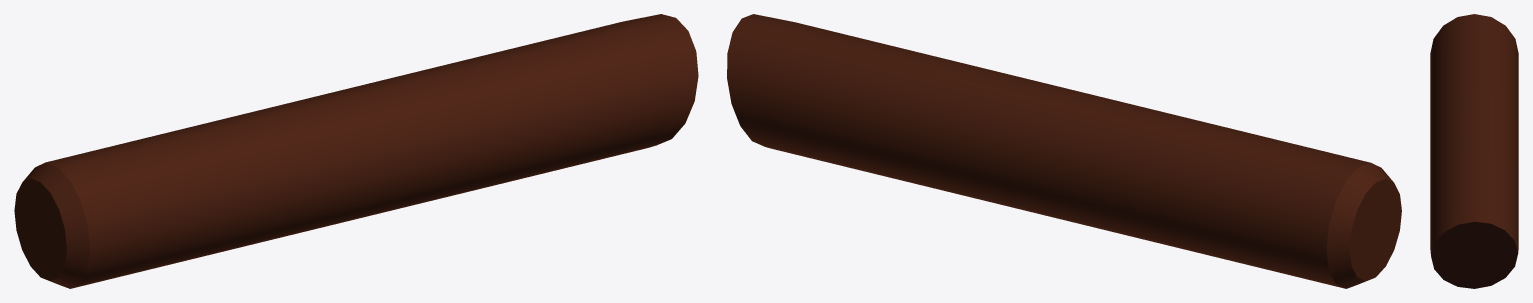
File: BatteBaseBall_Part_2.fbx
3 views of the same model, side by side, from view 1: azimuth 30°, elevation 25°; view 2: azimuth 150°, elevation 25°; view 3: azimuth 270°, elevation 25° (orthographic). The views are drawn at different scales.
Parts seen in each view (by area): view 1: BatteBaseBall_Part_2; view 2: BatteBaseBall_Part_2; view 3: BatteBaseBall_Part_2.
Boxes of the visible parts, box(x1,y1,x2,y2) form: BatteBaseBall_Part_2: box(14, 14, 698, 288); BatteBaseBall_Part_2: box(727, 14, 1401, 288); BatteBaseBall_Part_2: box(1430, 14, 1518, 288).
Size of the model in its own units: 43.91 by 7.74 by 7.74.
